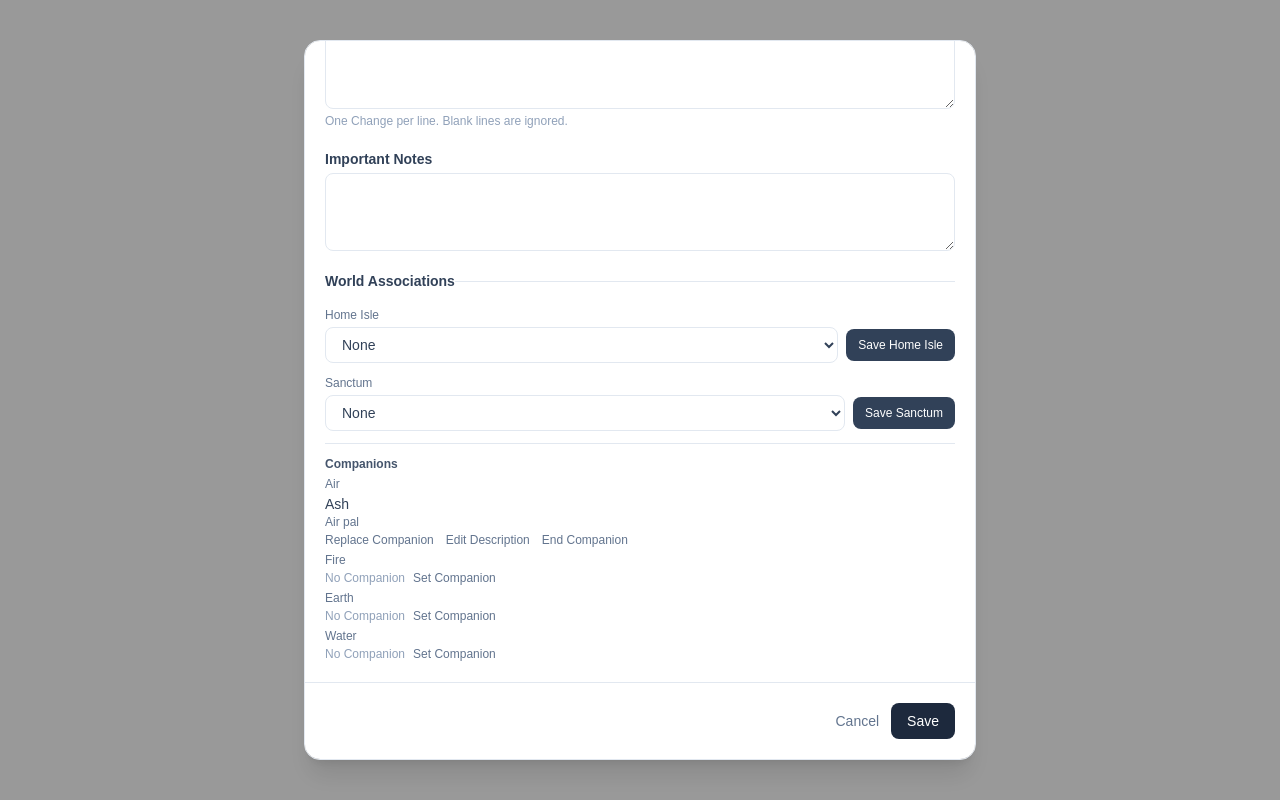
Scenario: WizardCharacterSheet reactive sync › Companion Set/Replace/End/Edit controls and assignment callback
Later steps or results of the test are not shown.
(page scrolled)
Click the button "Set Companion" below "earth" at (454, 616), box [413,608,496,624]
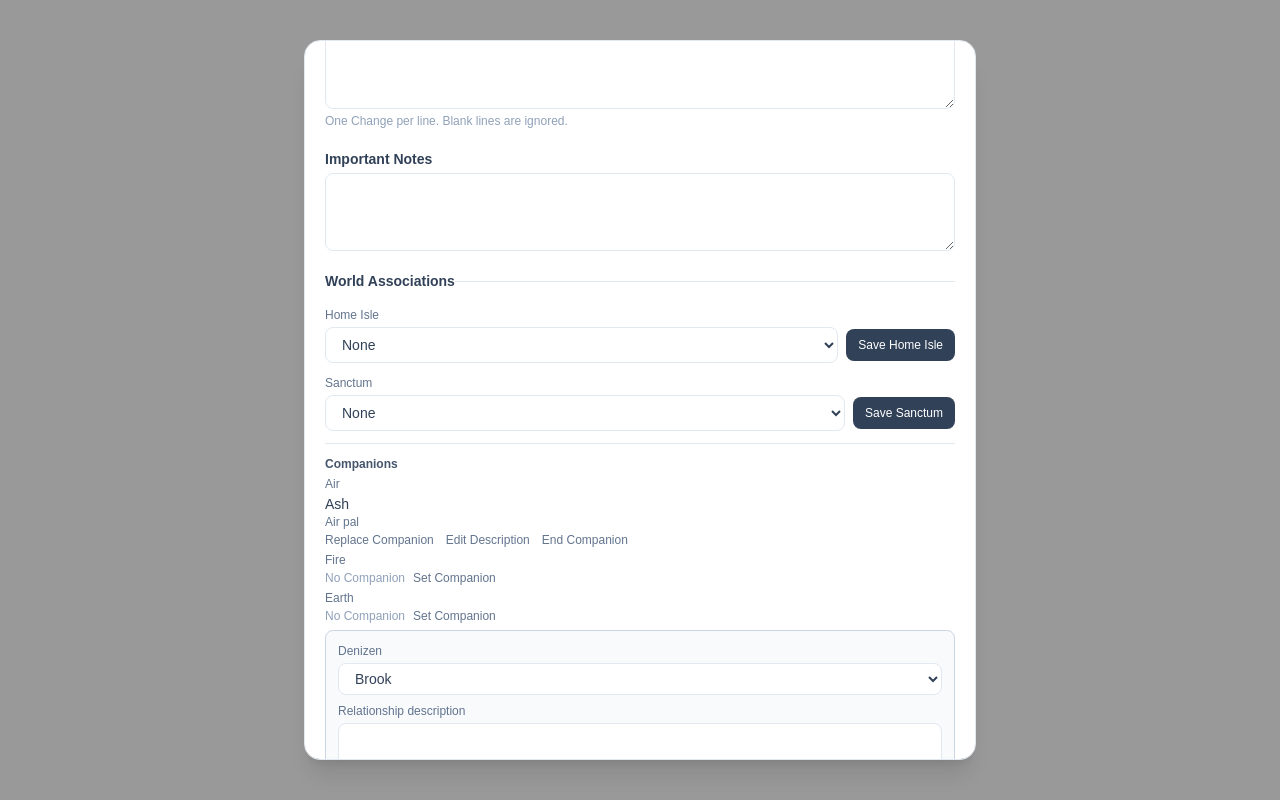
Now the dropdown below "Denizen" is shown
Select "Brook" in the dropdown below "Denizen" at (640, 679), box [338,663,942,695]
(page scrolled)
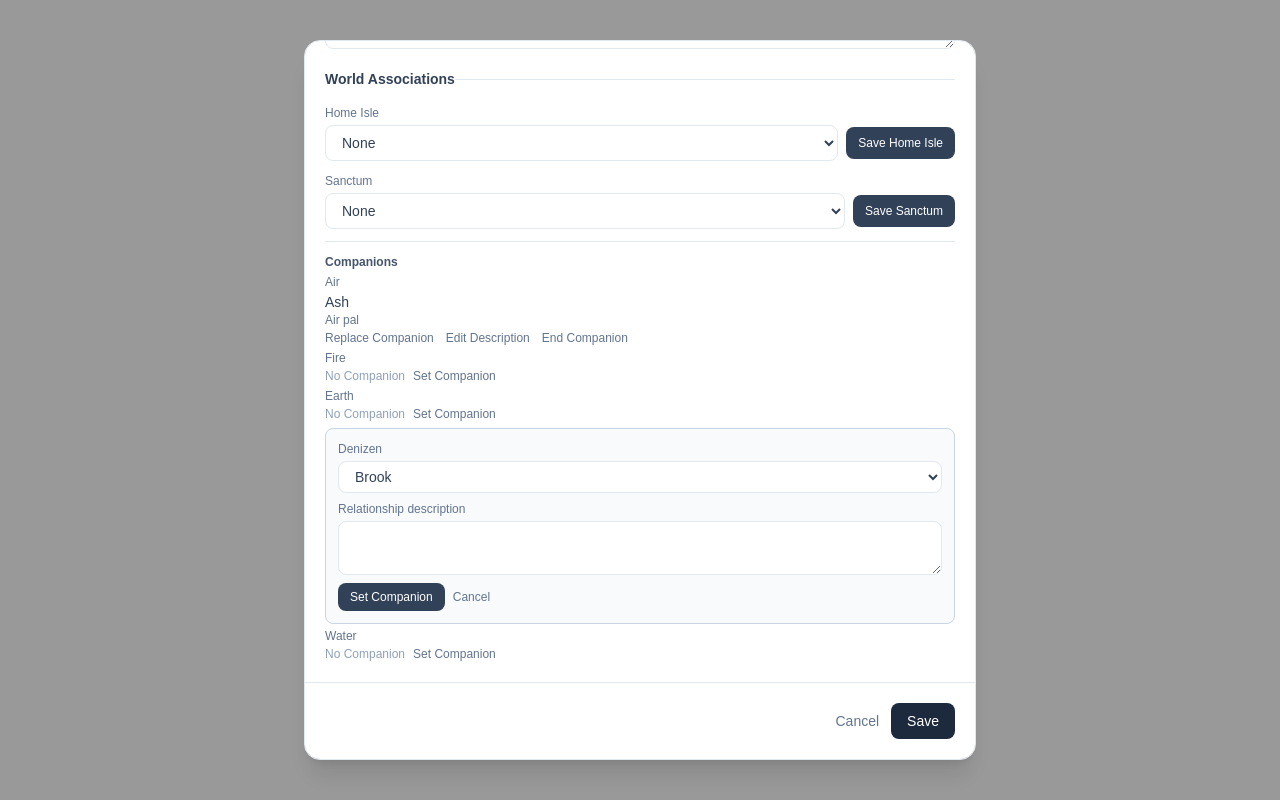
Now the button "Set Companion" below "Relationship description" is shown, box [338,583,445,611]
